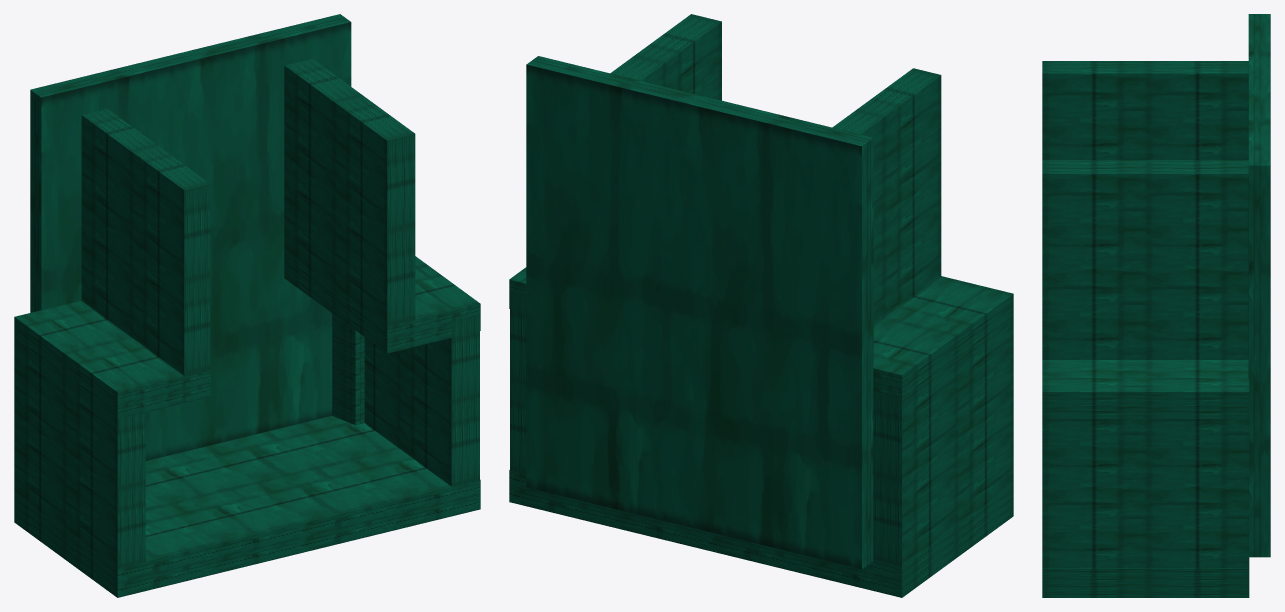
The model's file is cooridor6dp_wtf.obj.
3 renders of one model, left to right at view 1: azimuth 30°, elevation 25°; view 2: azimuth 150°, elevation 25°; view 3: azimuth 270°, elevation 25°, orthographic. The views are drawn at different scales.
Visible parts, largest first — view 1: group2; view 2: group2; view 3: group2.
Boxes of the visible parts, bbox=[...] form: group2: bbox=[14, 14, 480, 597]; group2: bbox=[509, 14, 1013, 597]; group2: bbox=[1042, 14, 1270, 597].
Size of the model in its own units: 599 by 660 by 325.
